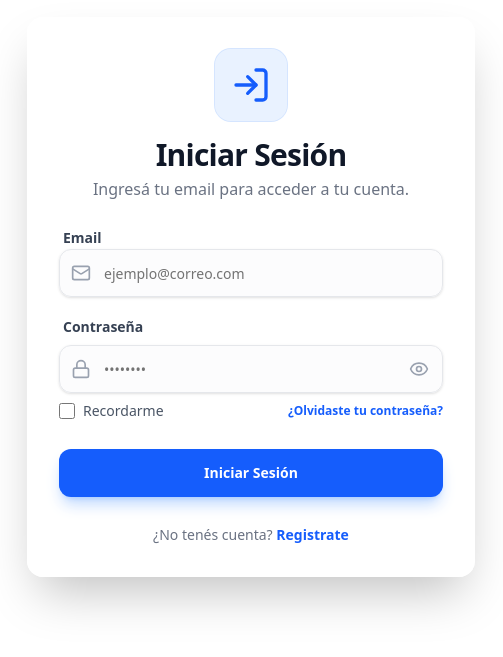
it: Login Page › displays error message if login fails
The image size is (503, 657).
In the field labelled "Email": x=251, y=273 left=59, top=249, right=443, bottom=297, type "wrong@example.com"
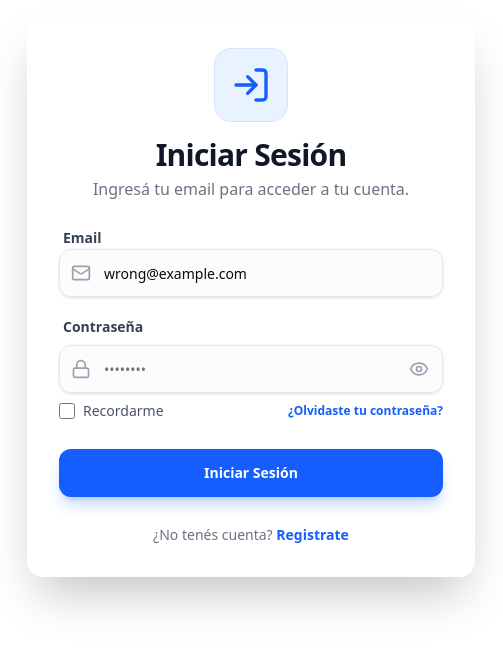
In the password field with placeholder "••••••••": x=251, y=369 left=59, top=345, right=443, bottom=393, type "wrongpass"
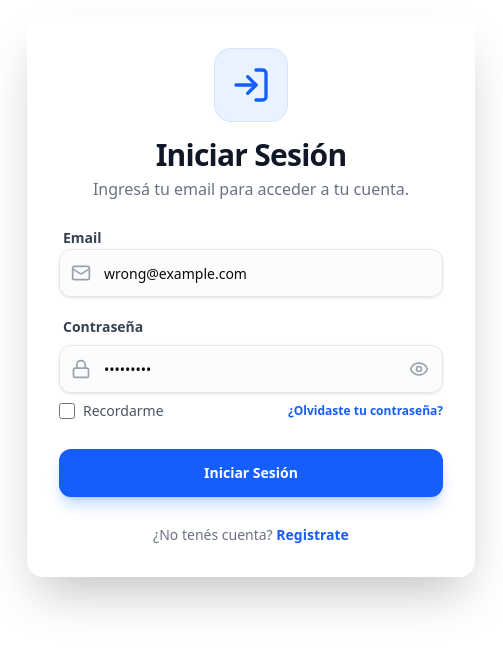
Click the button "Iniciar Sesión": x=251, y=473 left=59, top=449, right=443, bottom=497
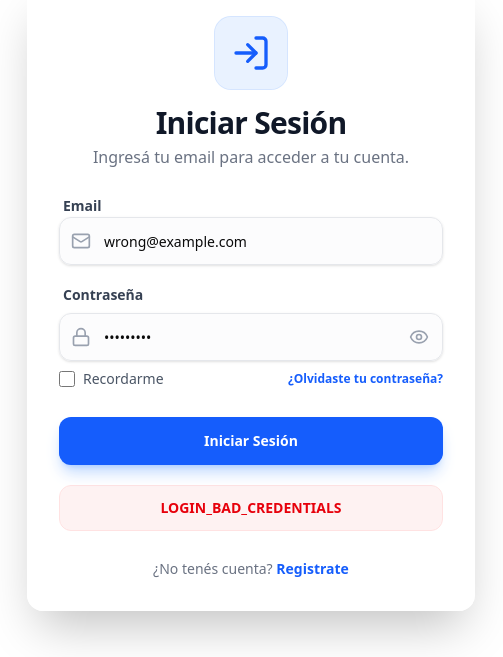
Expected: the text "LOGIN_BAD_CREDENTIALS" is shown, left=160, top=498, right=342, bottom=517
